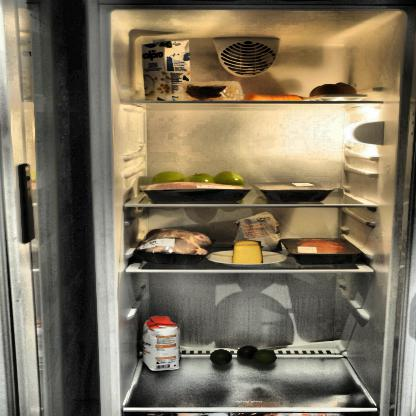apple: (152, 172, 246, 188)
beef: (294, 238, 353, 264)
carrot: (240, 94, 310, 102)
cheese: (233, 240, 263, 266)
chicken: (135, 228, 214, 266)
eggs: (310, 82, 360, 101)
ground_beef: (145, 181, 252, 202)
lime: (238, 346, 278, 364), (210, 349, 234, 366)
milk: (140, 39, 190, 104)
